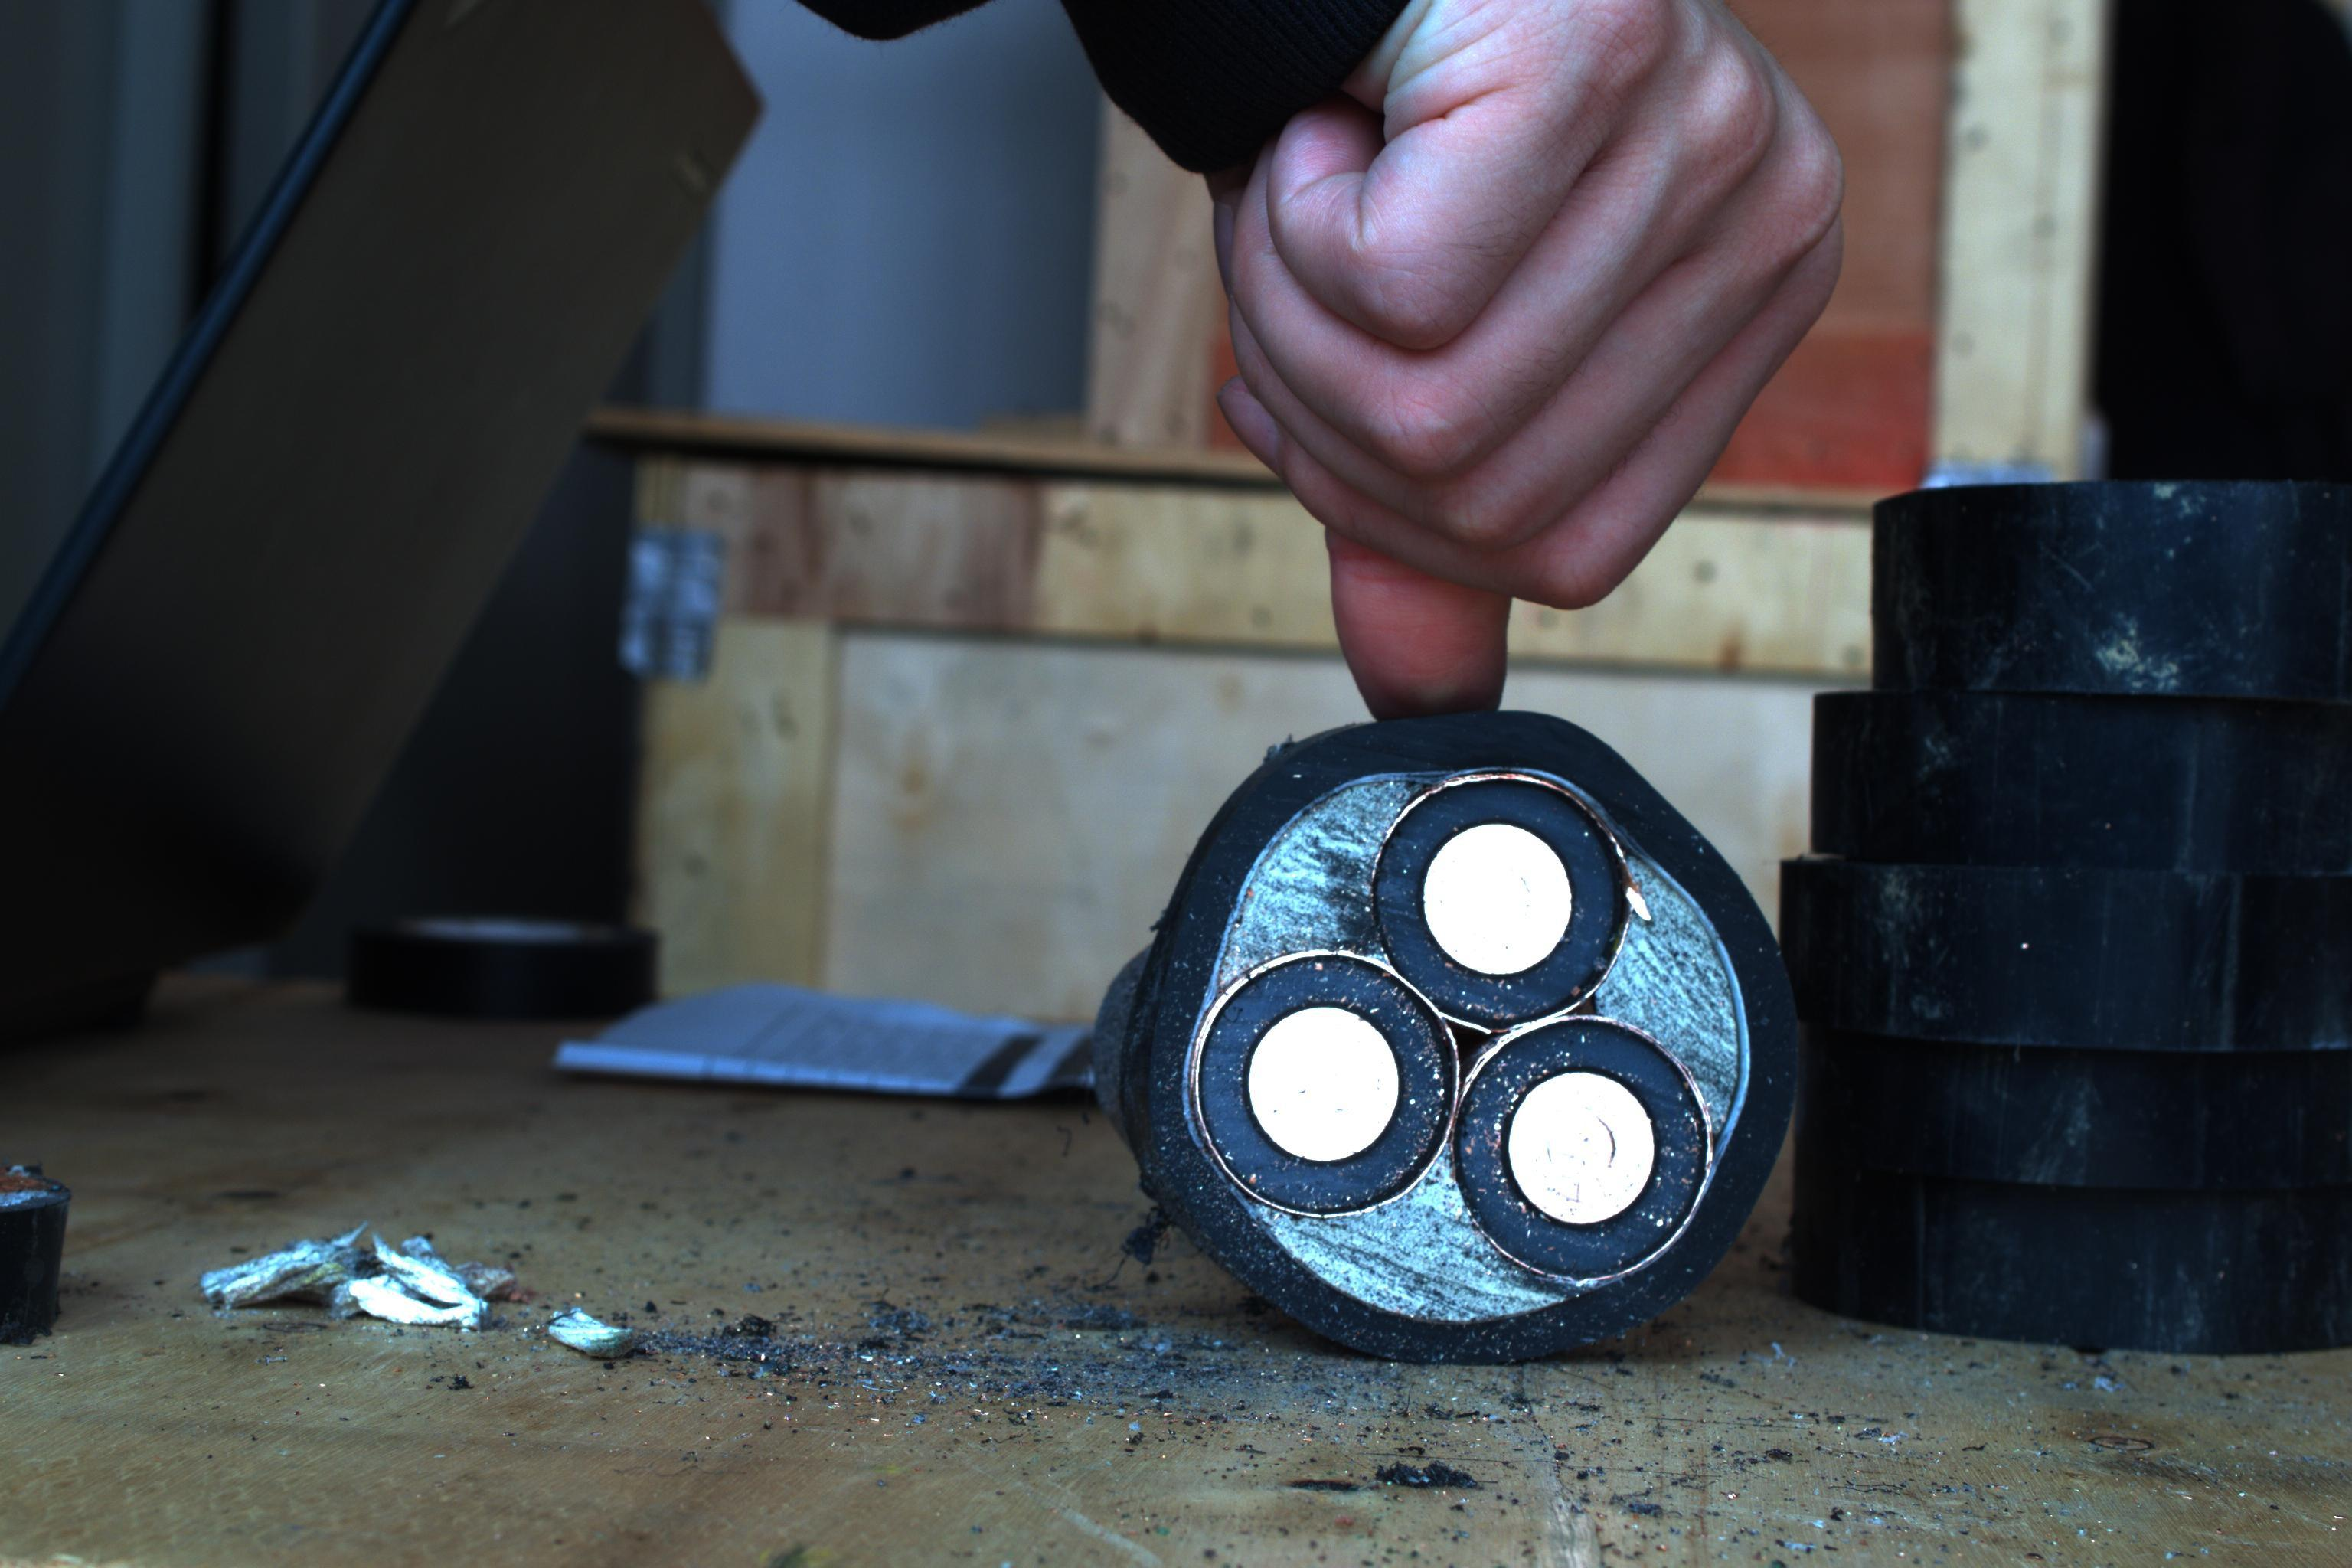ZA_YJV_8.7_10kV_3x240: (1164, 723, 1802, 1384)
